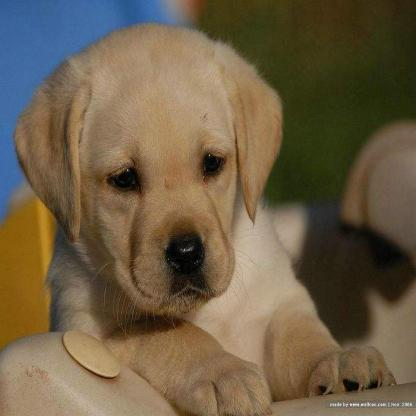Labarador Retriever: (16, 26, 395, 416)
